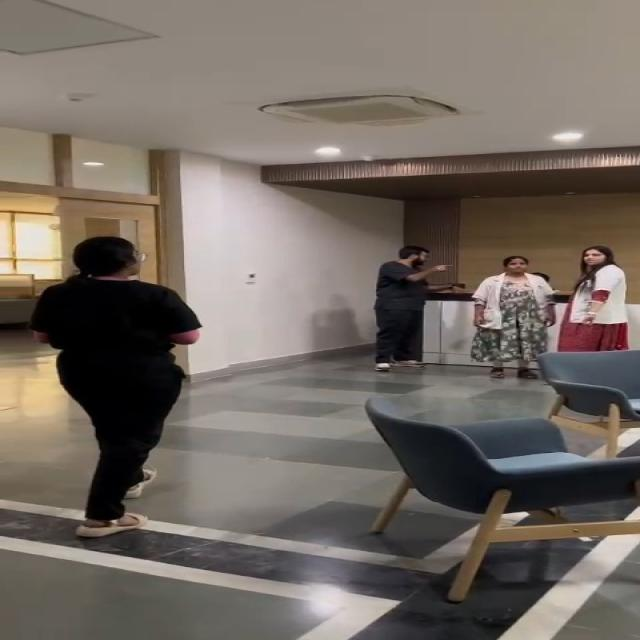floor: (0, 548, 640, 640), (206, 367, 357, 557)
furniture: (358, 391, 640, 519), (520, 343, 640, 444)
moving_object: (32, 244, 187, 556), (355, 236, 460, 367), (571, 213, 640, 372), (483, 228, 548, 374)
wall: (163, 151, 373, 349)
